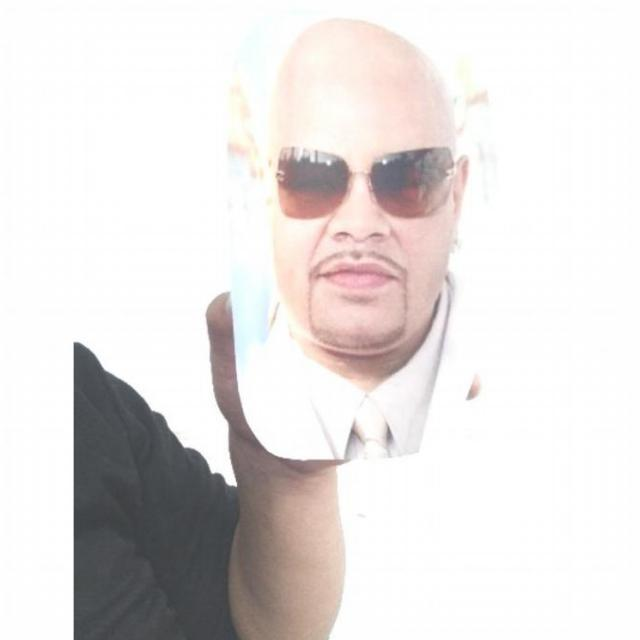photo: (217, 0, 512, 470)
